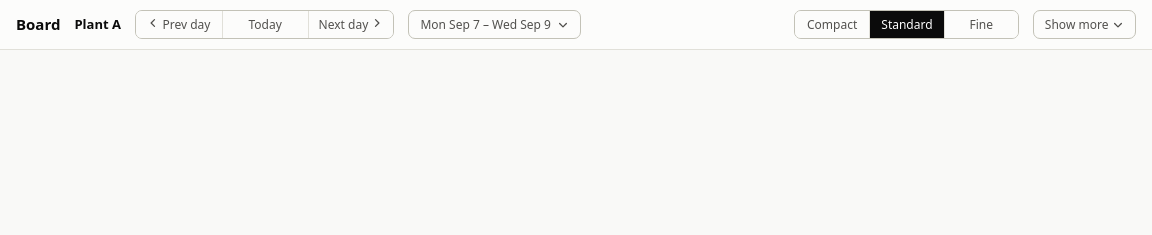
Test case: TB-1..TB-4: the band's labelled groups, cascaded from the three demo roles' rights › TB-1: an admin sees every Week plan control, and Key, once opened
Click the button "Show more" at (1084,25), box [1033,10,1136,39]
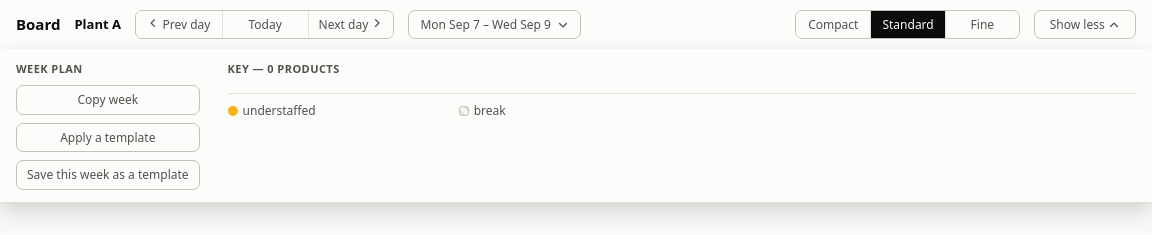
Check: the heading "Week plan" is shown, box [16,61,83,76]
Check: the button "Copy week" is shown, box [16,85,200,115]
Check: the button "Apply a template" is shown, box [16,123,200,152]
